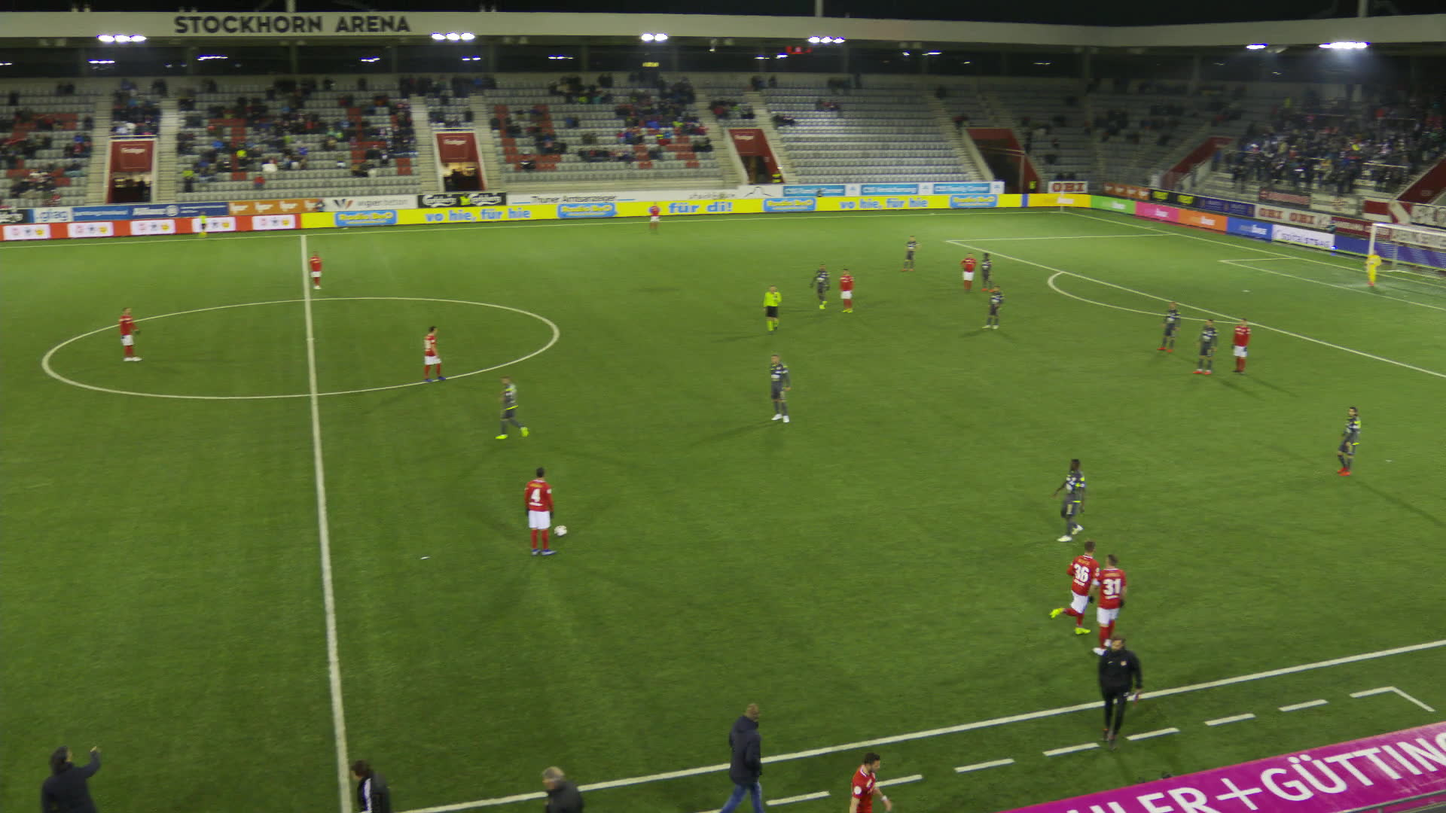ball: (556, 523, 569, 535)
player: (1045, 539, 1098, 635), (1088, 553, 1128, 657), (842, 750, 894, 812), (1053, 455, 1089, 540), (523, 466, 557, 555), (495, 374, 528, 440), (1331, 405, 1362, 474), (768, 352, 792, 422), (1192, 317, 1219, 374), (117, 305, 142, 361), (1157, 300, 1183, 352), (422, 324, 444, 380), (1231, 318, 1253, 373), (809, 263, 831, 309), (982, 284, 1005, 328), (839, 266, 855, 313), (960, 251, 978, 292), (902, 234, 920, 272), (980, 251, 996, 291), (1365, 249, 1382, 285), (310, 249, 325, 289), (649, 200, 661, 230)
referee: (764, 284, 784, 336), (199, 211, 209, 238)
